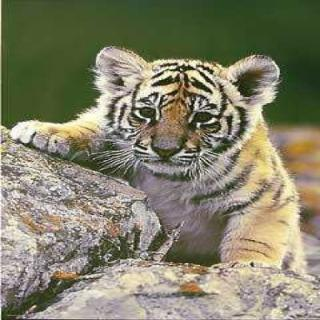Tiger: (11, 38, 314, 286)
